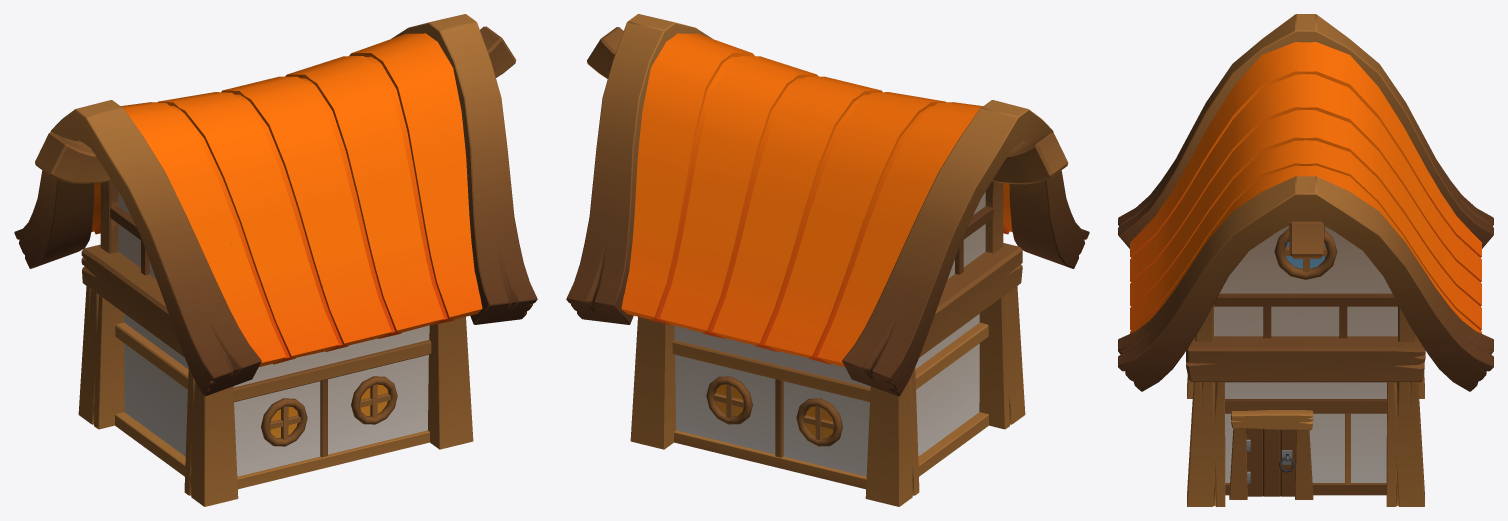
The model's file is obj_House2 (1).fbx.
3 views of the same model, side by side, from view 1: azimuth 30°, elevation 25°; view 2: azimuth 150°, elevation 25°; view 3: azimuth 270°, elevation 25° (orthographic). The views are drawn at different scales.
Parts seen in each view (by area): view 1: obj_House2; view 2: obj_House2; view 3: obj_House2.
Part boxes in pixels (x1,y1,x2,y2): obj_House2: (14, 14, 537, 506); obj_House2: (566, 14, 1089, 506); obj_House2: (1118, 14, 1493, 506).
Bounding box in the file's own units: 310 × 231 × 230.
